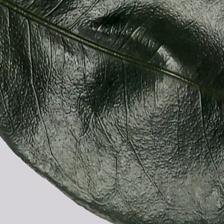healthy: (3, 2, 224, 155)
